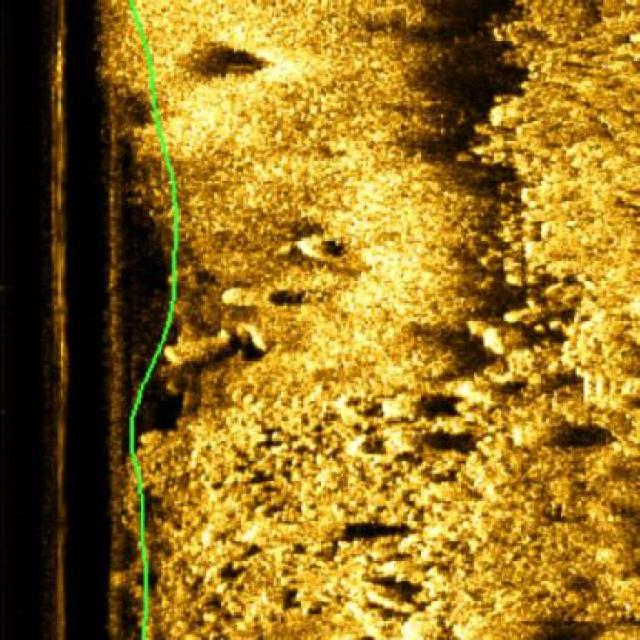bedrock group: (148, 370, 640, 639)
